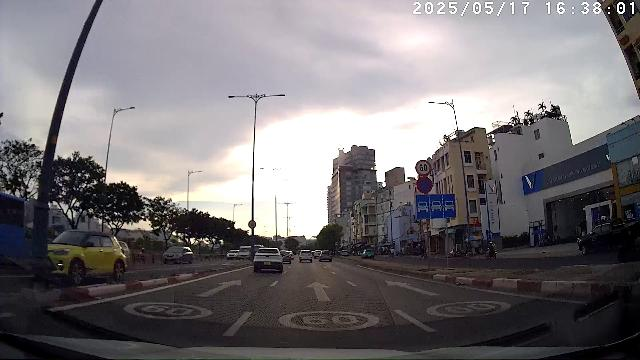127-toc-do-toi-da-60: (416, 159, 432, 175)
130-cam-dung-va-do-xe: (417, 176, 433, 194)
